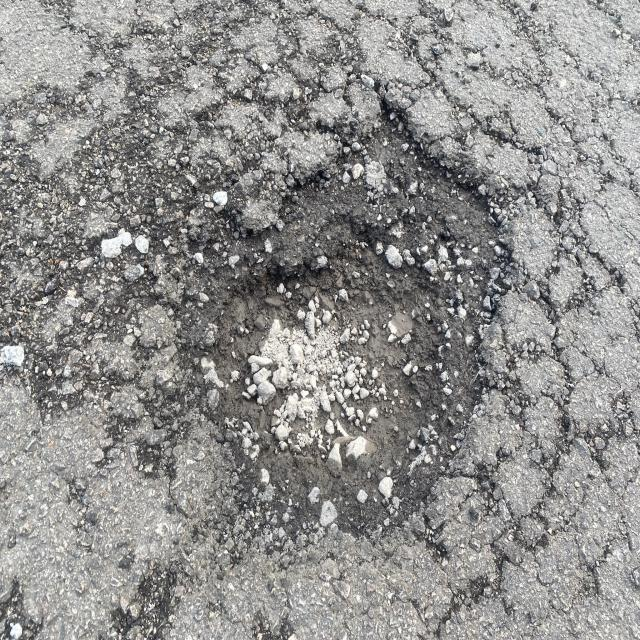Pothole: (162, 75, 540, 604)
